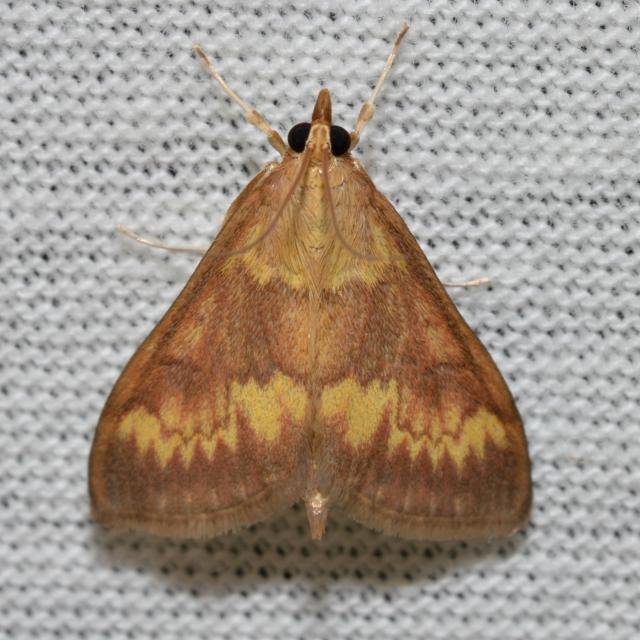cornborer-Adult-: (65, 17, 560, 554)
